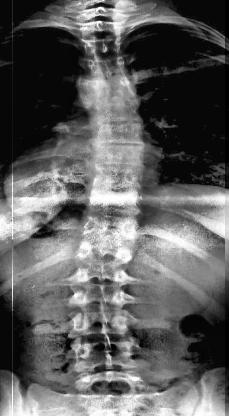Vertebrae: (69, 336, 139, 372), (70, 308, 136, 338), (87, 188, 146, 220), (66, 283, 134, 309), (89, 165, 146, 196), (80, 214, 140, 242), (69, 266, 137, 290), (74, 241, 132, 269), (88, 98, 144, 126), (90, 121, 148, 148), (92, 141, 146, 169), (85, 74, 137, 102), (82, 53, 128, 78), (82, 35, 126, 59), (78, 19, 124, 41), (75, 7, 129, 25)
